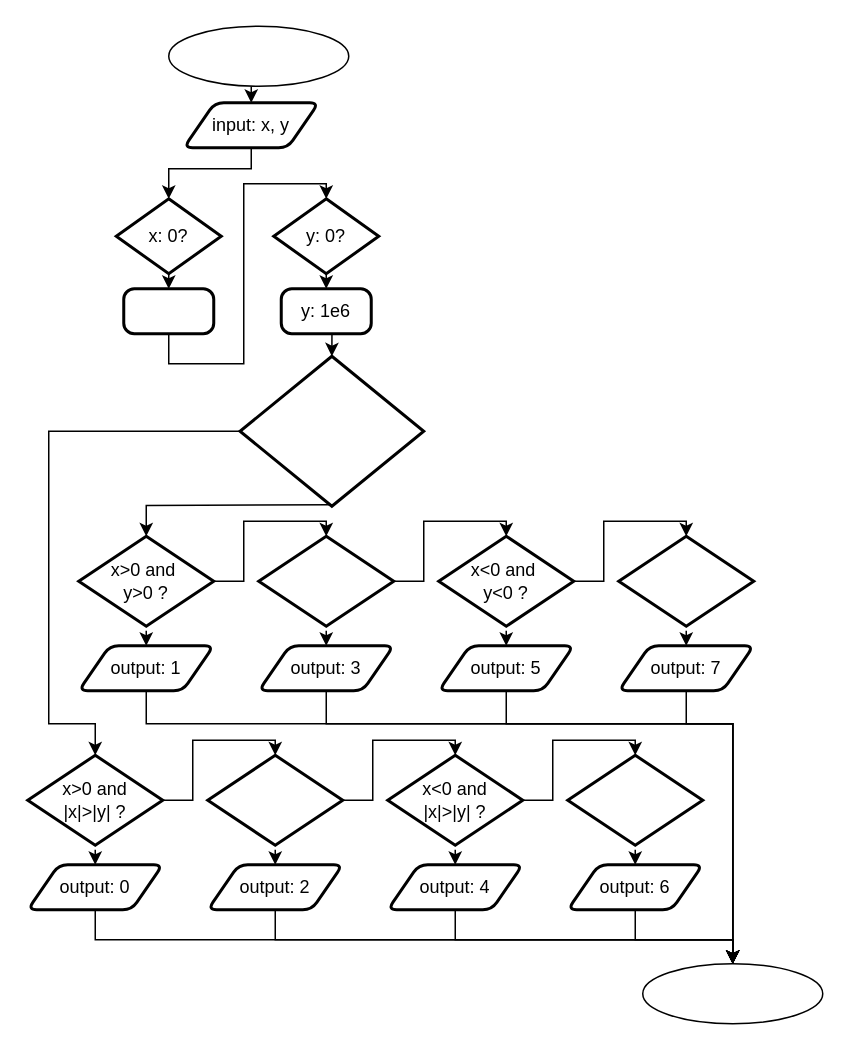
This 849x1050 diagram has some shape labels left out. The shapes that lost their labels are listed below. From the top down, each one's centre as x and y in pixels, then its label:
At pixel 258 55: "begin".
At pixel 168 310: "x: 1e6".
At pixel 331 430: "|x/y| <phi and | y/x|<phi ?".
At pixel 325 580: "x<0 and y>0 ?".
At pixel 685 580: "x>0 and y<0 ?".
At pixel 275 799: "y>0 and |y|>|x| ?".
At pixel 635 799: "y<0 and |y|>|x| ?".
At pixel 732 993: "end".
